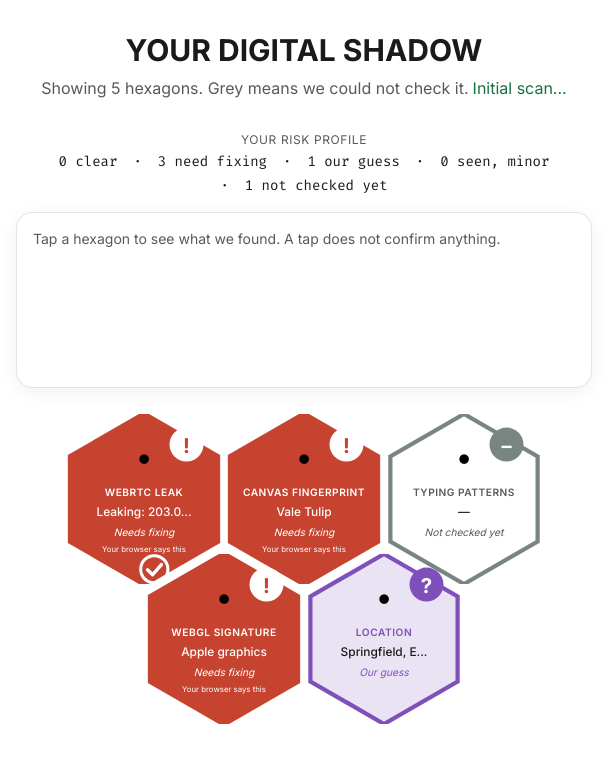
Test: HexagonGrid explanation box with the honest tiles on (MPC-7916) › tapping the grey DNS tile never says the lookups look normal
What coordinates should you click on to do the following:
click the button named "WebRTC Leak: Leaking: 203.0.113.9. Needs fixing. Your browse"
I would click on:
 (144, 499)
Its box is [59, 414, 229, 584].
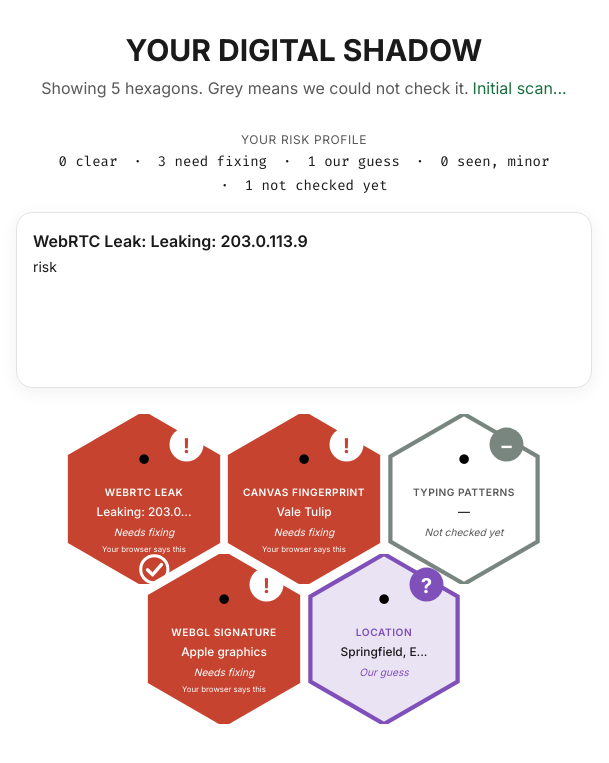
What coordinates should you click on to do the following:
click the button named "Canvas Fingerprint: Vale Tulip. Needs fixing. Your browser s"
I would click on:
 (304, 499)
Its box is [219, 414, 389, 584].
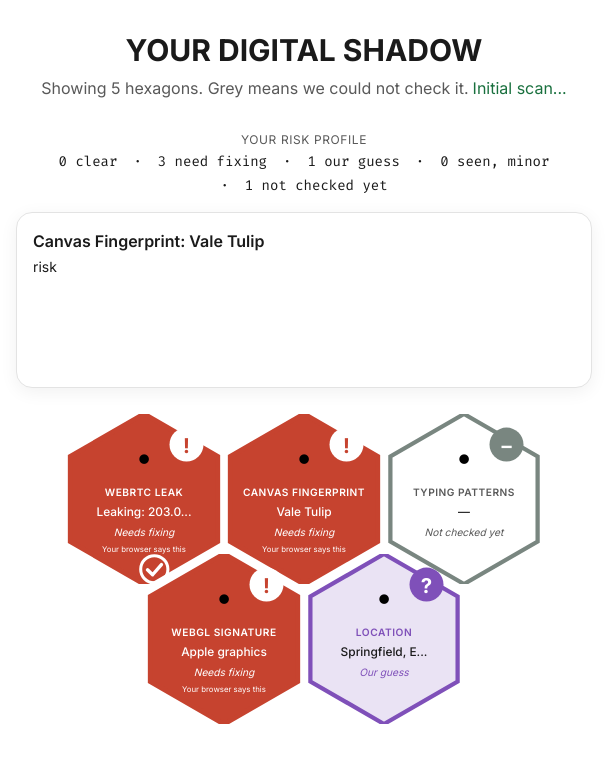
What coordinates should you click on to do the following:
click the button "• Typing Patterns — Not checked yet –"
I would click on:
 (464, 499)
Its box is [379, 414, 549, 584].
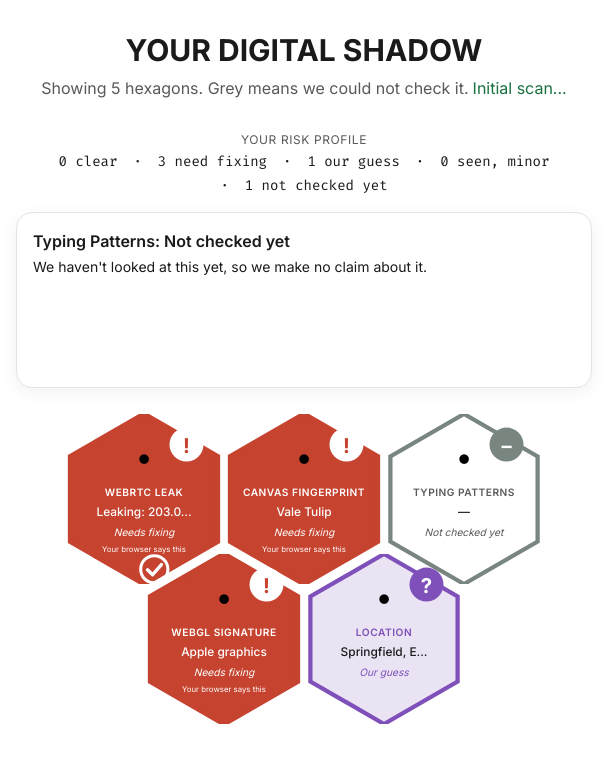
What coordinates should you click on to do the following:
click the button named "WebGL Signature: Apple graphics. Needs fixing. Your browser"
I would click on:
 (224, 638)
Its box is [139, 554, 309, 724].
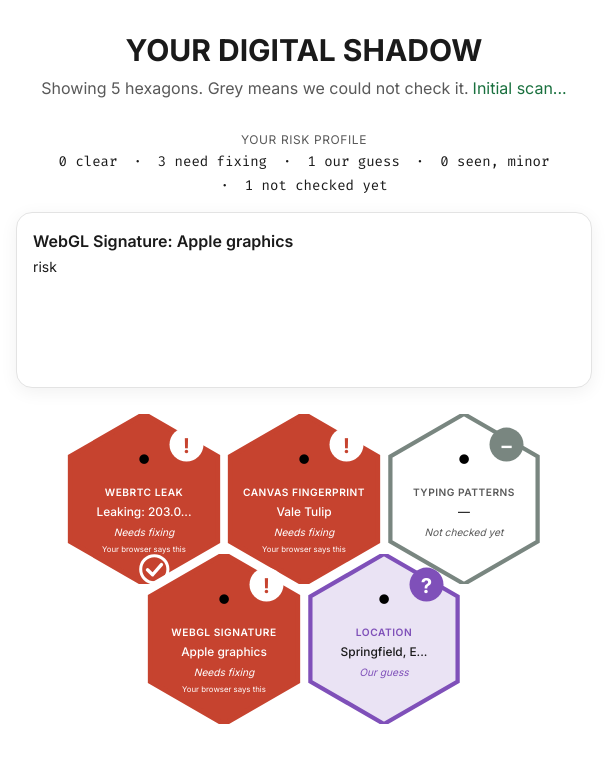
What coordinates should you click on to do the following:
click the button "• Location Springfield, E... Our guess ?"
I would click on:
 (384, 638)
Its box is [299, 554, 469, 724].
Wait 12000 ms
(page scrolled)
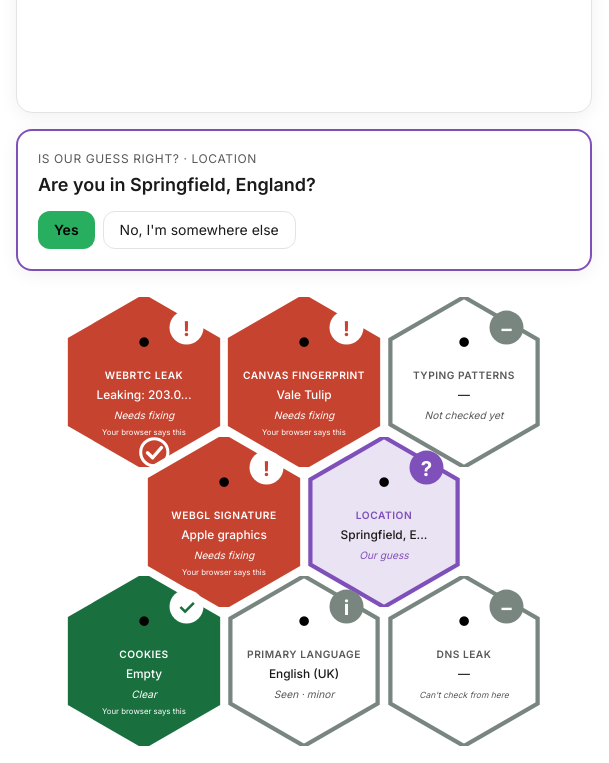
What coordinates should you click on to do the following:
click the button "• DNS Leak — Can't check from here –"
I would click on:
 (464, 661)
Its box is [379, 576, 549, 746].
(page scrolled)
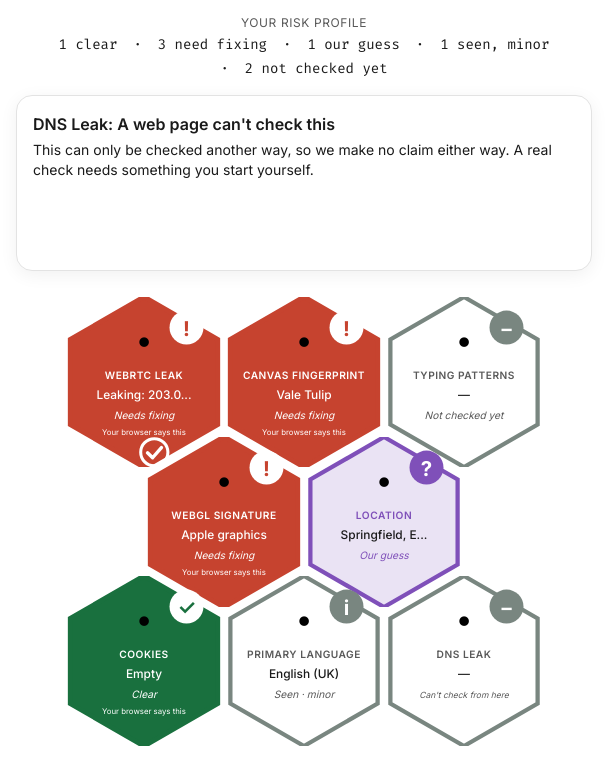
Now the message with test id "hexagon-explanation" shows "A web page can't check this", box [33, 114, 335, 134]
